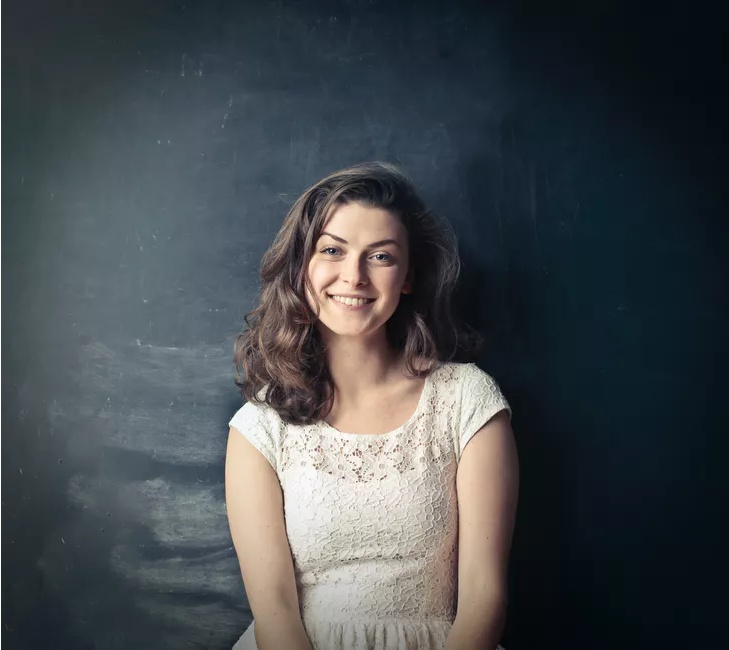face: (304, 203, 409, 335)
